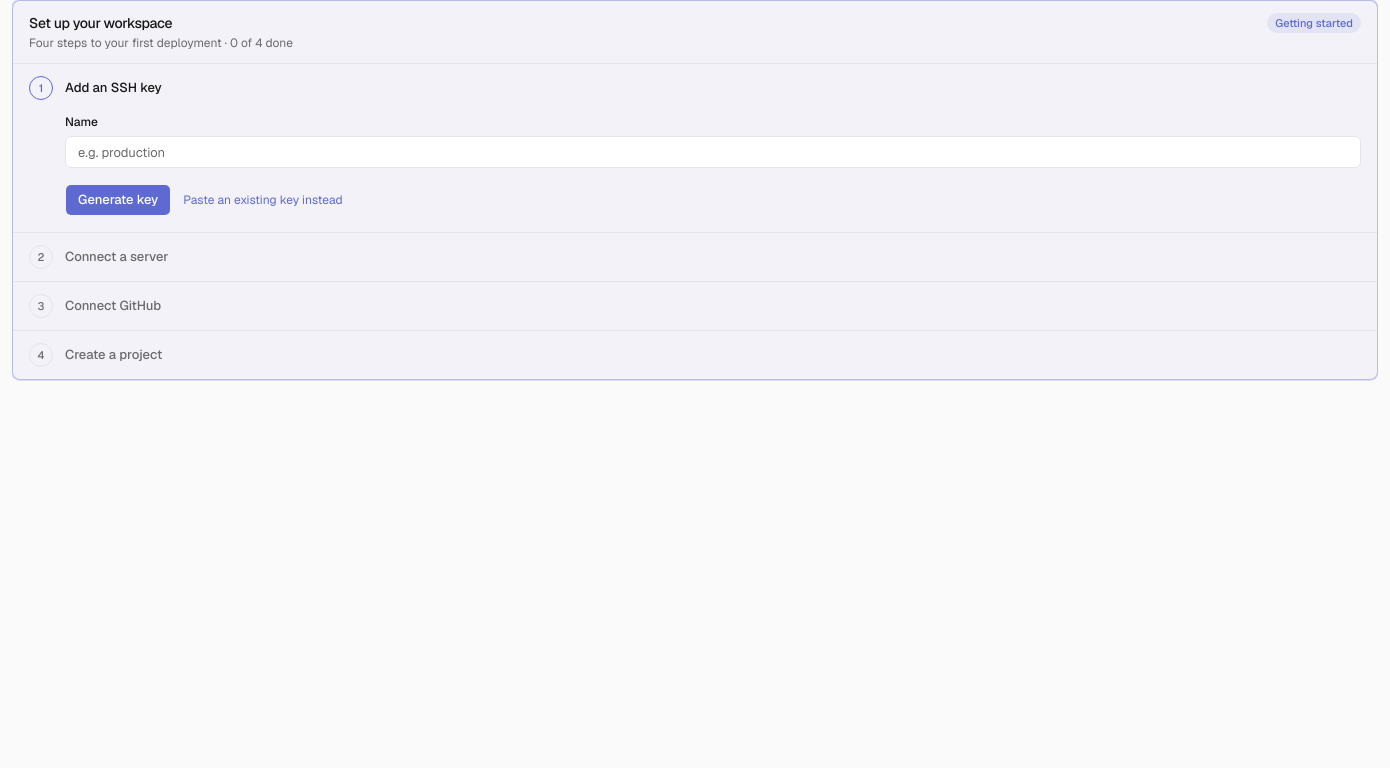
Test: SetupWizard › generates a key, shows the public key, then continues to the server step with it preselected
This screenshot has width=1390, height=768.
Step 1. Click the button "Generate key" → (118, 200), box x1=65 y1=184 x2=171 y2=216
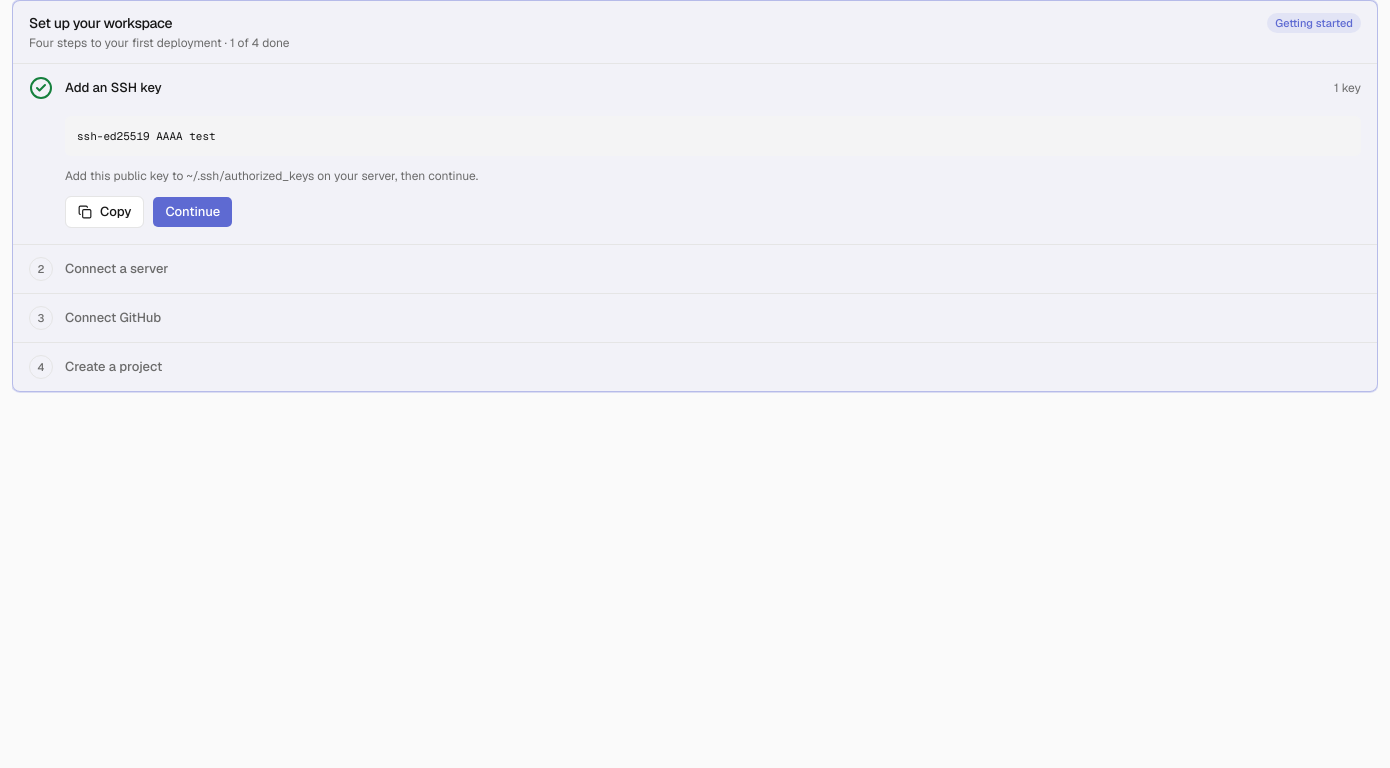
expect the text "ssh-ed25519 AAAA test" is shown: met, box x1=65 y1=116 x2=1361 y2=156
Step 2. Click the button "Continue" → (193, 212), box x1=152 y1=196 x2=233 y2=228
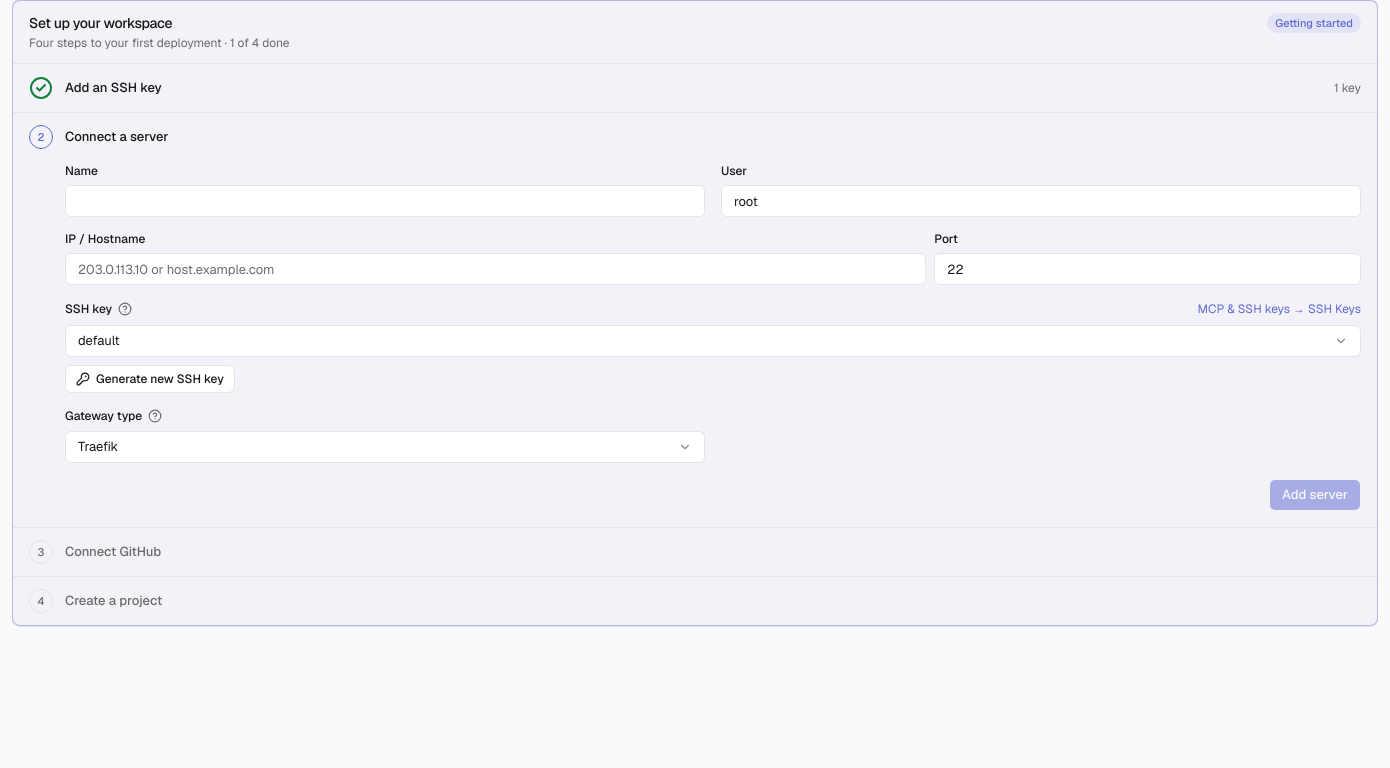
expect the field labelled "IP / Hostname" is shown: met, box x1=65 y1=253 x2=926 y2=285
